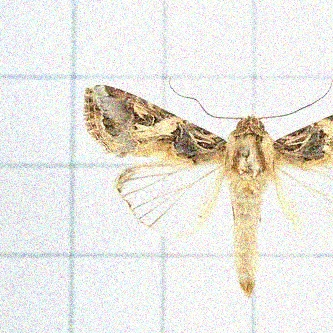Spodoptera litura: (82, 77, 333, 301)
